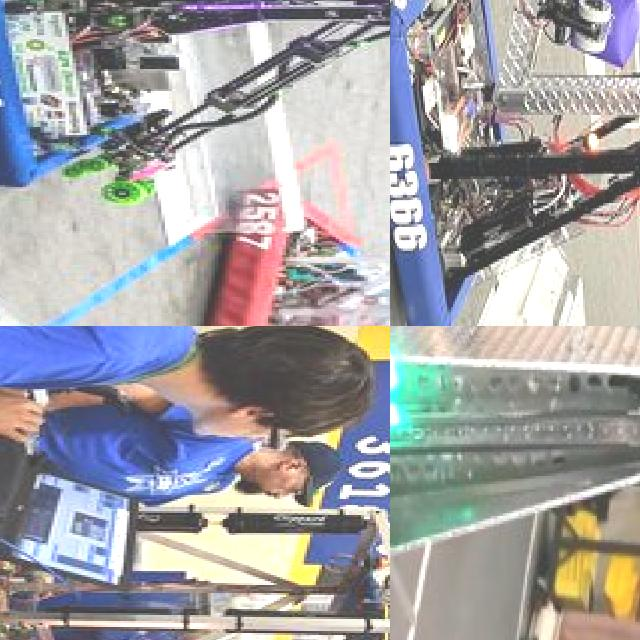FRC-Robots: (390, 0, 640, 326), (390, 326, 640, 640), (0, 0, 390, 197), (0, 559, 390, 640), (150, 203, 390, 326)
